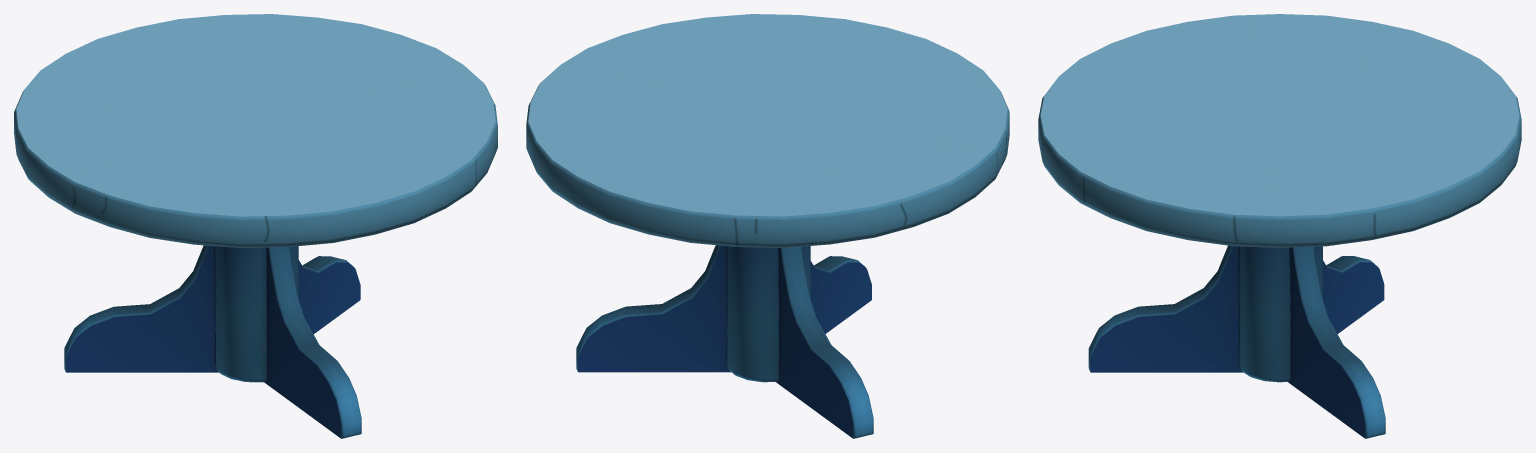
File: round_table.glb
3 views of the same model, side by side, from view 1: azimuth 30°, elevation 25°; view 2: azimuth 150°, elevation 25°; view 3: azimuth 270°, elevation 25° (orthographic).
Parts seen in each view (by area): view 1: fc_table_round.smd; view 2: fc_table_round.smd; view 3: fc_table_round.smd.
Part boxes in pixels (left/top/right/bottom): fc_table_round.smd: left=14, top=14, right=497, bottom=438; fc_table_round.smd: left=526, top=14, right=1009, bottom=438; fc_table_round.smd: left=1038, top=14, right=1521, bottom=438.
Size of the model in its own units: 0.9288 by 0.5346 by 0.9288.
Materials: 1 (1 with a texture image).
